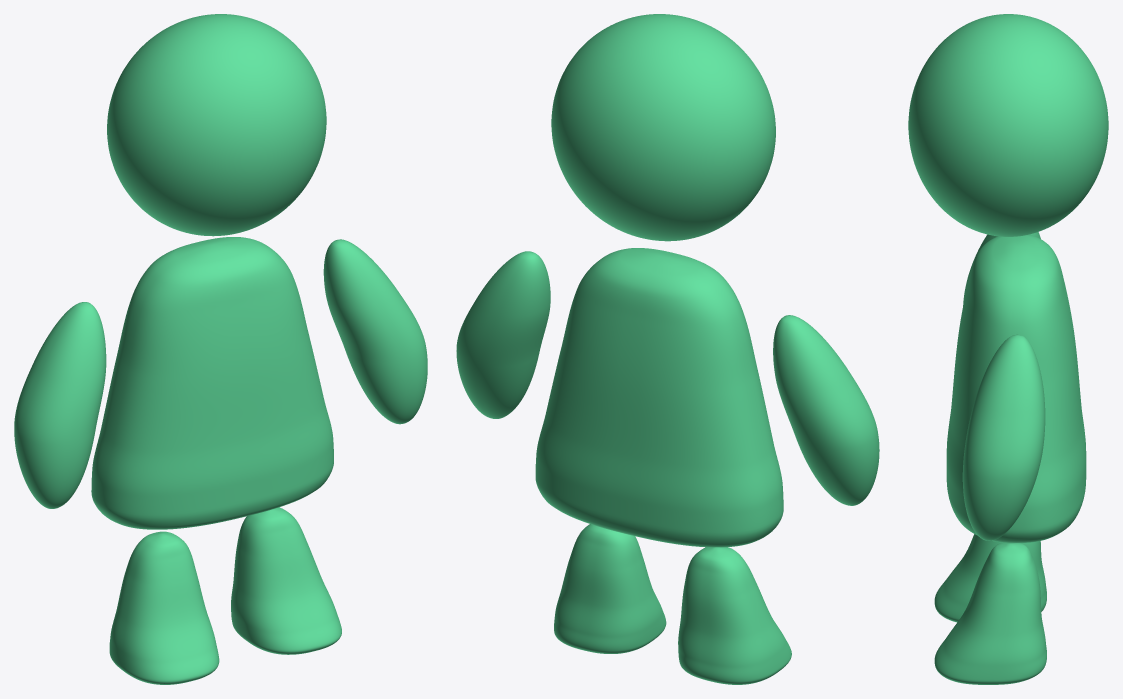
File: Floating138.glb
The picture shows the model from 3 angles, left to right: view 1: azimuth 30°, elevation 25°; view 2: azimuth 150°, elevation 25°; view 3: azimuth 270°, elevation 25°; orthographic projection. The views are drawn at different scales.
Visible parts, largest first — view 1: Floating torso, Round head, Left floating arm, Left floating foot, Right floating foot, Right floating arm; view 2: Floating torso, Round head, Left floating arm, Left floating foot, Right floating arm, Right floating foot; view 3: Round head, Floating torso, Right floating arm, Right floating foot, Left floating foot.
Boxes of the visible parts, box(x1,y1,x2,y2) form: Floating torso: box(91, 237, 333, 529); Round head: box(107, 14, 326, 236); Left floating arm: box(14, 302, 106, 508); Left floating foot: box(109, 531, 219, 684); Right floating foot: box(231, 507, 341, 654); Right floating arm: box(323, 239, 427, 424); Floating torso: box(535, 248, 783, 547); Round head: box(551, 14, 775, 241); Left floating arm: box(773, 315, 879, 505); Left floating foot: box(678, 547, 791, 684); Right floating arm: box(456, 251, 550, 418); Right floating foot: box(554, 524, 666, 653); Round head: box(908, 14, 1108, 236); Floating torso: box(946, 234, 1086, 542); Right floating arm: box(962, 334, 1045, 540); Right floating foot: box(934, 542, 1046, 684); Left floating foot: box(934, 534, 1046, 622).
Size of the model in its own units: 2.02 by 2.98 by 0.88.
